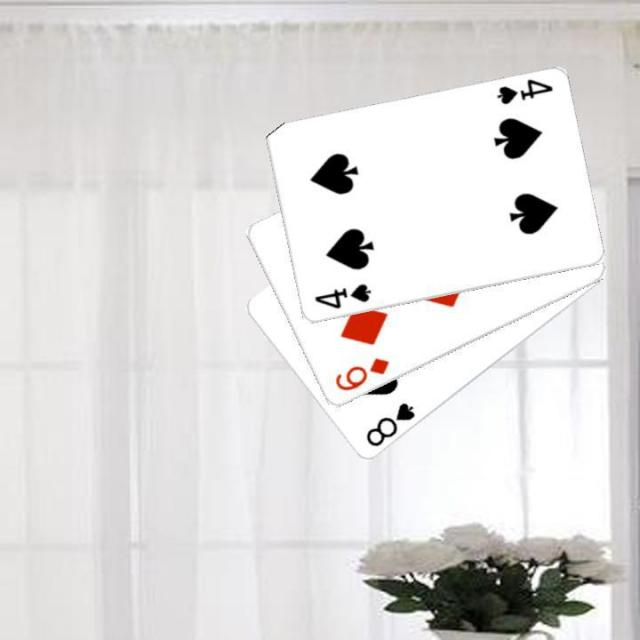4S: (310, 280, 372, 311), (492, 76, 554, 106)
6D: (331, 354, 391, 394)
8S: (362, 399, 417, 450)
